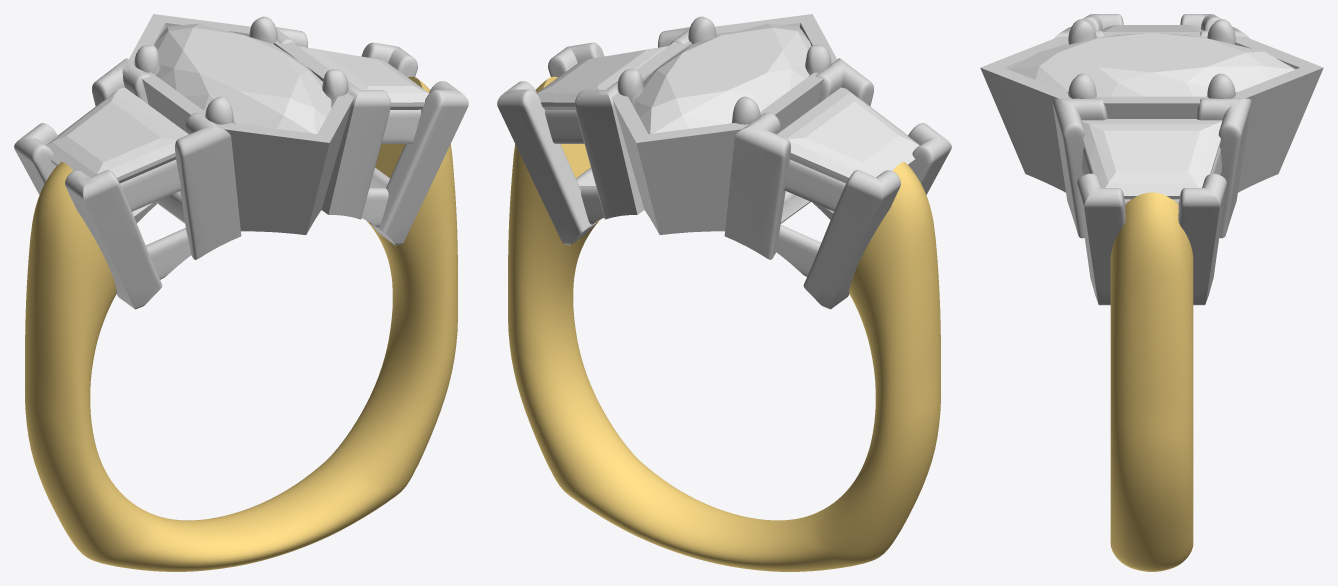
File: EricYGPTeng_blender.glb
The picture shows the model from 3 angles, left to right: view 1: azimuth 30°, elevation 25°; view 2: azimuth 150°, elevation 25°; view 3: azimuth 270°, elevation 25°; orthographic projection. The views are drawn at different scales.
Visible parts, largest first — view 1: Eric YG for 3D Model, Eric PT for 3D model, Eric dia for 3D Model.002, Eric dia for 3D Model.001, Eric dia for 3D Model; view 2: Eric YG for 3D Model, Eric PT for 3D model, Eric dia for 3D Model.002, Eric dia for 3D Model.001, Eric dia for 3D Model; view 3: Eric PT for 3D model, Eric YG for 3D Model, Eric dia for 3D Model.002, Eric dia for 3D Model, Eric dia for 3D Model.001.
Boxes of the visible parts, left/top/right/bottom form: Eric YG for 3D Model: left=25, top=76, right=457, bottom=571; Eric PT for 3D model: left=14, top=14, right=468, bottom=309; Eric dia for 3D Model.002: left=154, top=23, right=331, bottom=133; Eric dia for 3D Model.001: left=46, top=87, right=188, bottom=183; Eric dia for 3D Model: left=298, top=46, right=428, bottom=109; Eric YG for 3D Model: left=508, top=76, right=940, bottom=571; Eric PT for 3D model: left=497, top=14, right=951, bottom=309; Eric dia for 3D Model.002: left=634, top=23, right=811, bottom=133; Eric dia for 3D Model.001: left=777, top=87, right=919, bottom=183; Eric dia for 3D Model: left=537, top=46, right=667, bottom=109; Eric PT for 3D model: left=980, top=14, right=1323, bottom=305; Eric YG for 3D Model: left=1110, top=192, right=1193, bottom=571; Eric dia for 3D Model.002: left=1008, top=32, right=1295, bottom=96; Eric dia for 3D Model: left=1081, top=119, right=1222, bottom=199; Eric dia for 3D Model.001: left=1101, top=25, right=1202, bottom=31.
Bounding box in the file's own units: 22.74 × 25.88 × 16.6.
